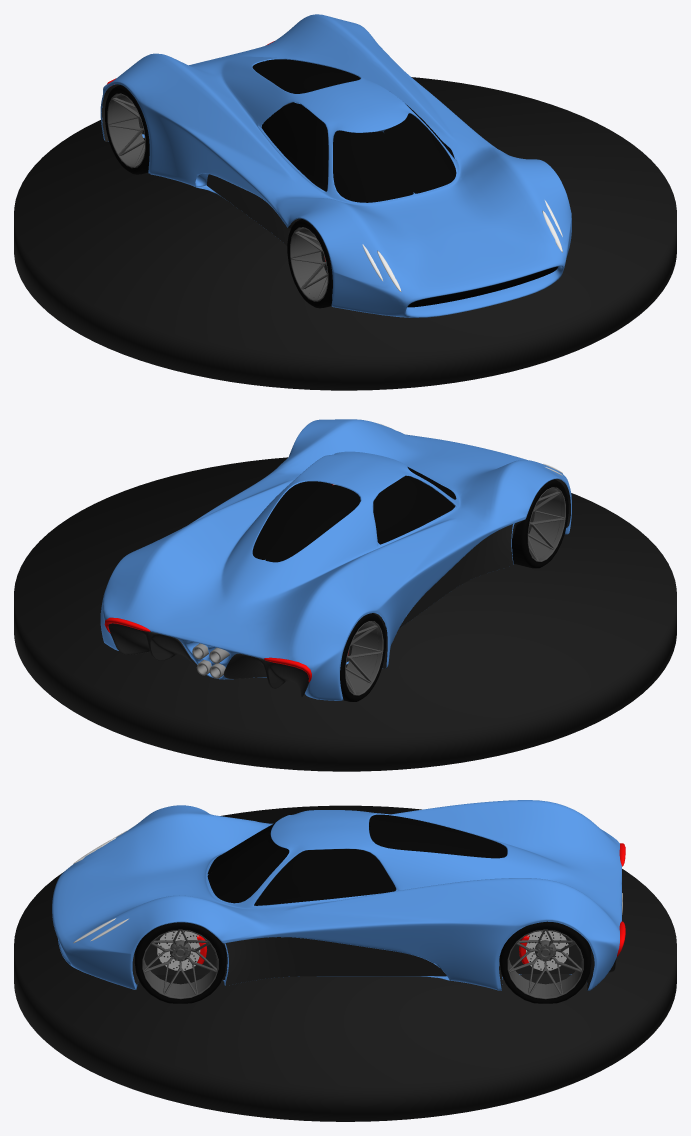
The picture shows the model from 3 angles, top to bottom: view 1: azimuth 30°, elevation 25°; view 2: azimuth 150°, elevation 25°; view 3: azimuth 270°, elevation 25°; orthographic projection.
Parts seen in each view (by area): view 1: pc2_wheel_lowres; view 2: pc2_wheel_lowres; view 3: pc2_wheel_lowres.
Part boxes in pixels (box(x1,y1,x2,y2)): pc2_wheel_lowres: box(14, 14, 676, 390); pc2_wheel_lowres: box(14, 419, 676, 771); pc2_wheel_lowres: box(14, 800, 676, 1121).
Bounding box in the file's own units: 4.34 × 1.14 × 4.34.
